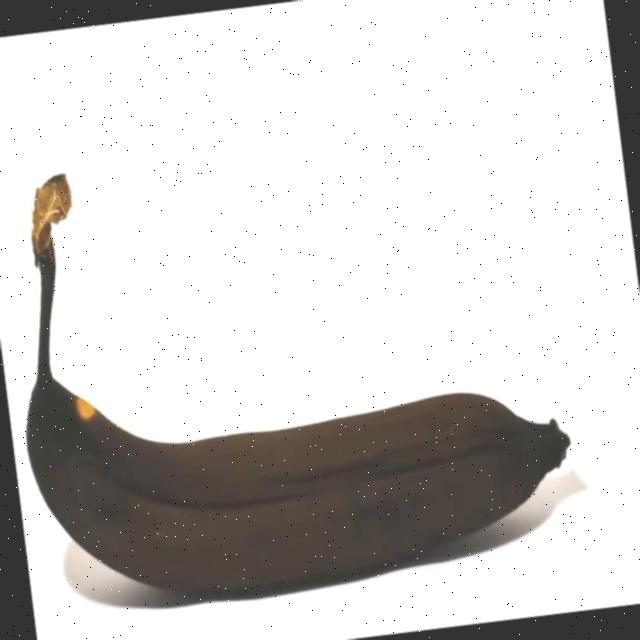Rotten: (0, 91, 603, 640)
